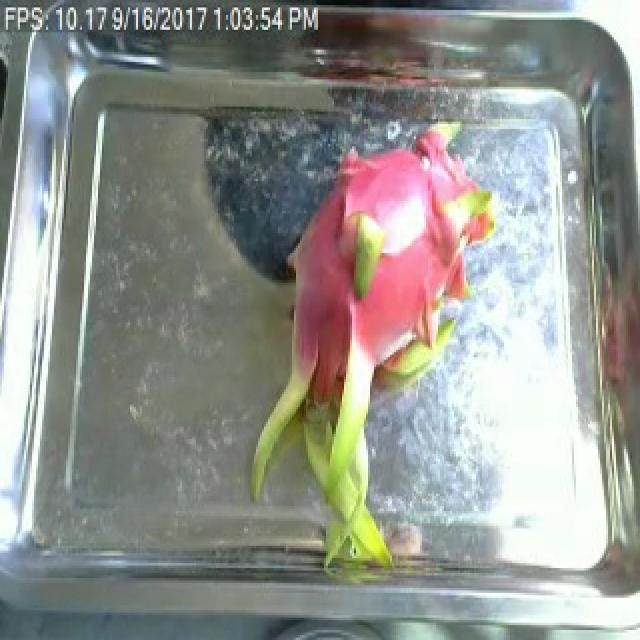fruit: (228, 139, 490, 568)
